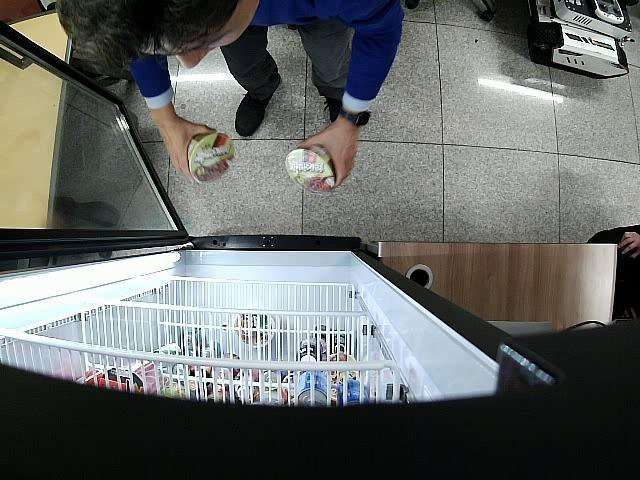03_chapagetti_L: (187, 132, 236, 184), (286, 145, 336, 194)
